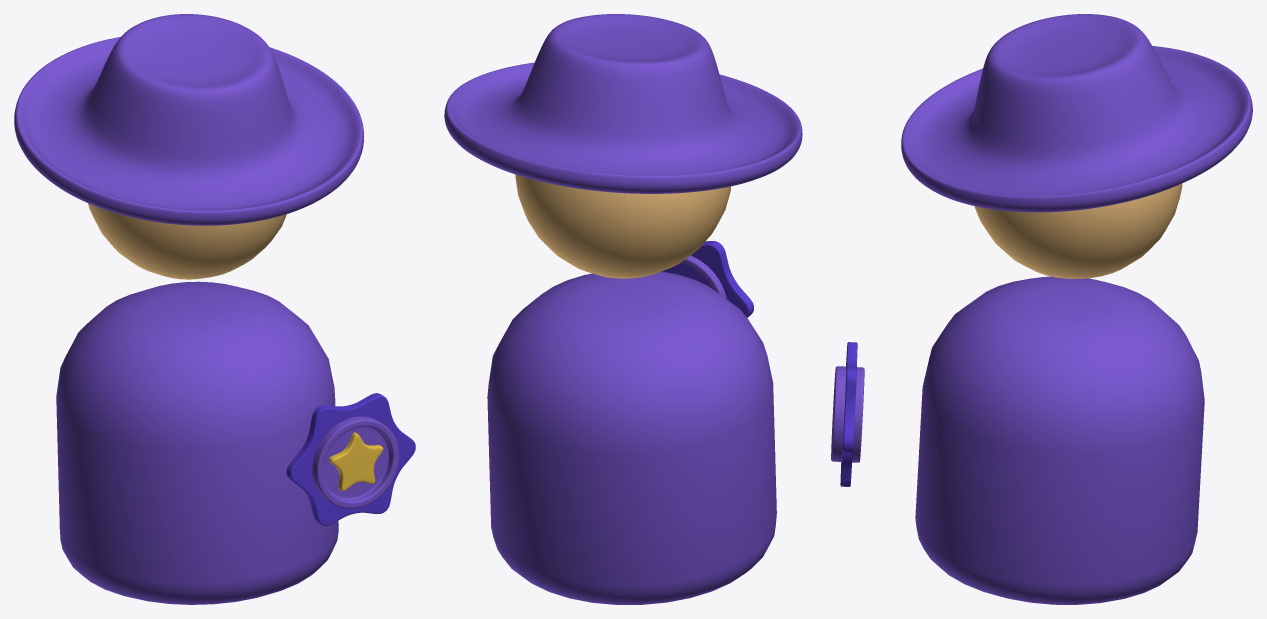
File: seller-3d-icon-1575011409969.glb
3 renders of one model, left to right at view 1: azimuth 30°, elevation 25°; view 2: azimuth 150°, elevation 25°; view 3: azimuth 270°, elevation 25°, orthographic. The views are drawn at different scales.
Parts seen in each view (by area): view 1: Body, Hat, Head, Badge 1, Badge 2, Star; view 2: Body, Hat, Head, Badge 1, Badge 2; view 3: Body, Hat, Head, Badge 2, Badge 1.
Part boxes in pixels (<box>): Body: <box>56,281,338,604</box>; Hat: <box>14,14,363,225</box>; Head: <box>88,203,286,279</box>; Badge 1: <box>286,393,415,525</box>; Badge 2: <box>312,416,399,508</box>; Star: <box>329,432,383,491</box>; Body: <box>487,271,776,604</box>; Hat: <box>444,14,802,193</box>; Head: <box>515,174,731,278</box>; Badge 1: <box>662,241,753,317</box>; Badge 2: <box>680,255,726,298</box>; Body: <box>915,276,1204,604</box>; Hat: <box>901,14,1252,212</box>; Head: <box>974,183,1182,278</box>; Badge 2: <box>831,366,864,462</box>; Badge 1: <box>840,342,857,486</box>.
Size of the model in its own units: 1.33 by 2.18 by 1.59.
